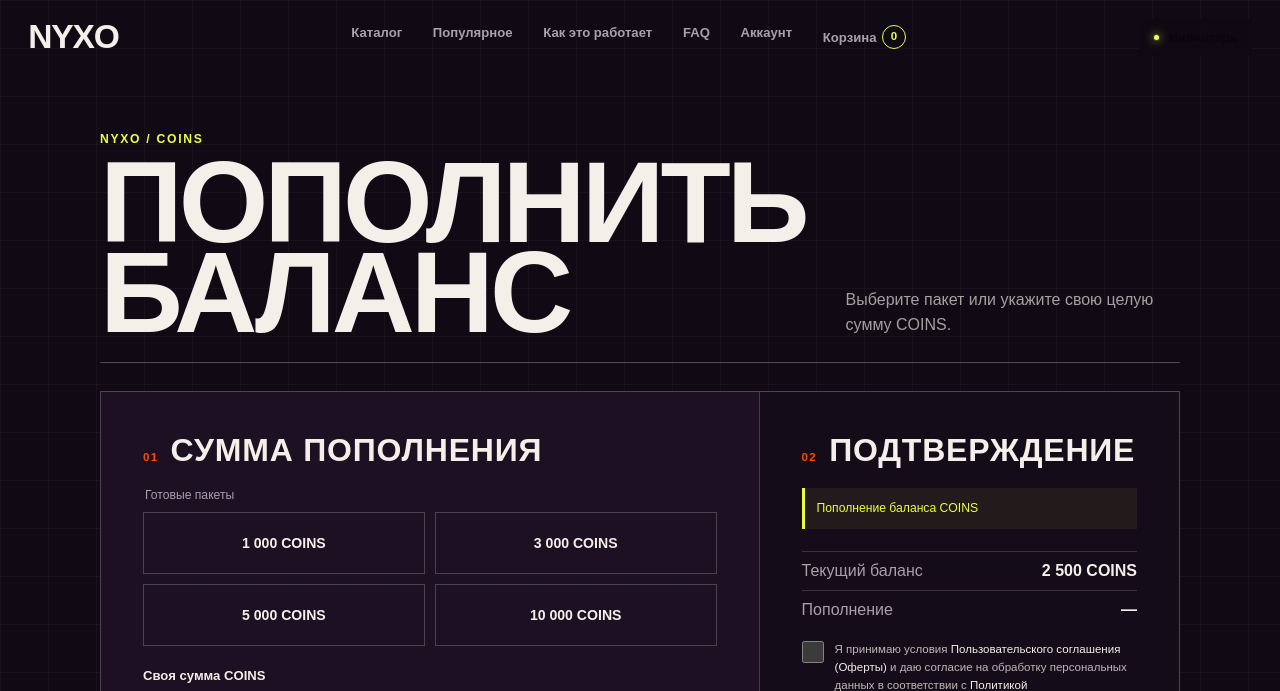
TopUpPage › rolls back on persistence failure, shows no false confirmation, and allows retry
Click the radio button labelled "5 000 COINS" at [284, 615], box top-left (143, 584), bottom-right (425, 646)
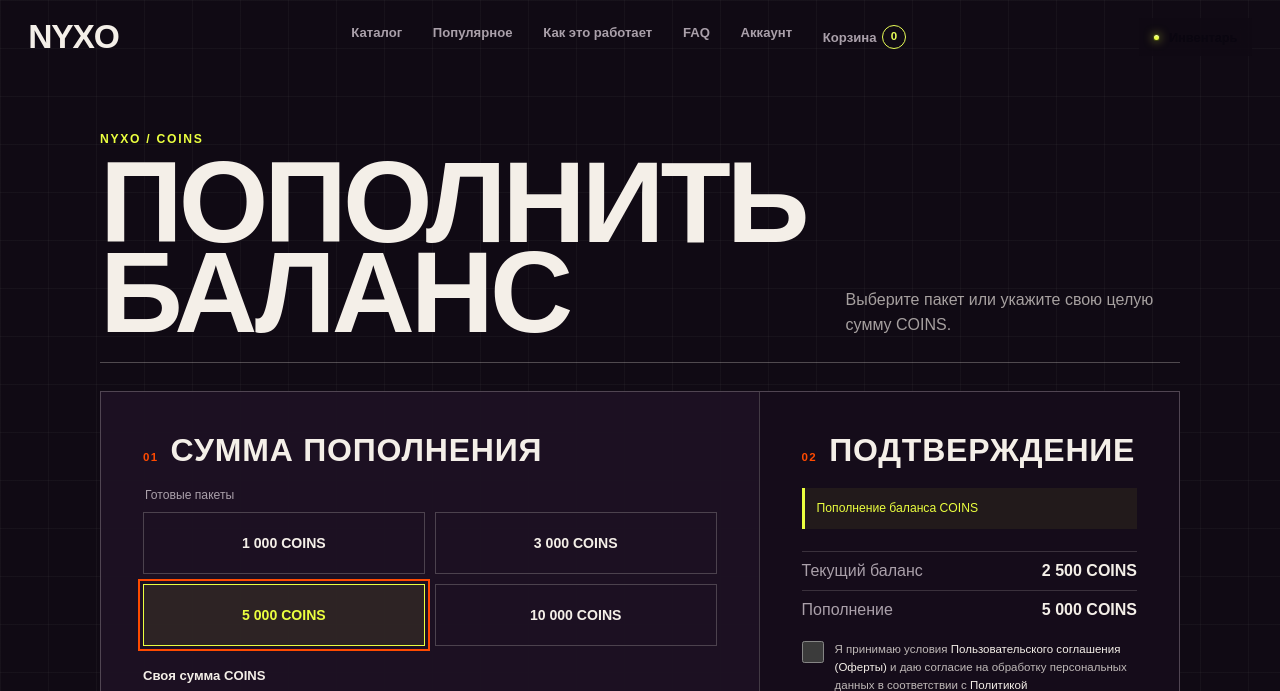
Click the checkbox named "Я принимаю условия Пользовательского соглашения (Оферты) и даю согласие на обработку персональных данных в соответствии " at [813, 652], box top-left (802, 641), bottom-right (824, 663)
(page scrolled)
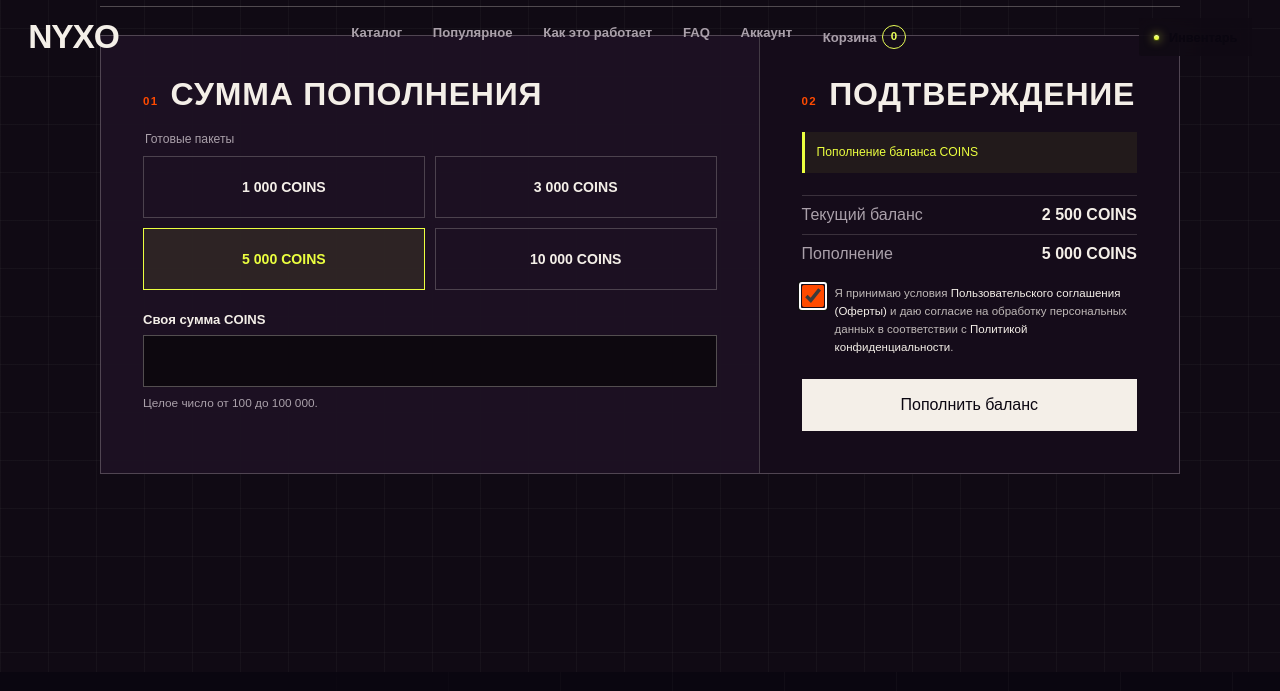
Click the button "Пополнить баланс" at [969, 405], box top-left (802, 379), bottom-right (1137, 431)
(page scrolled)
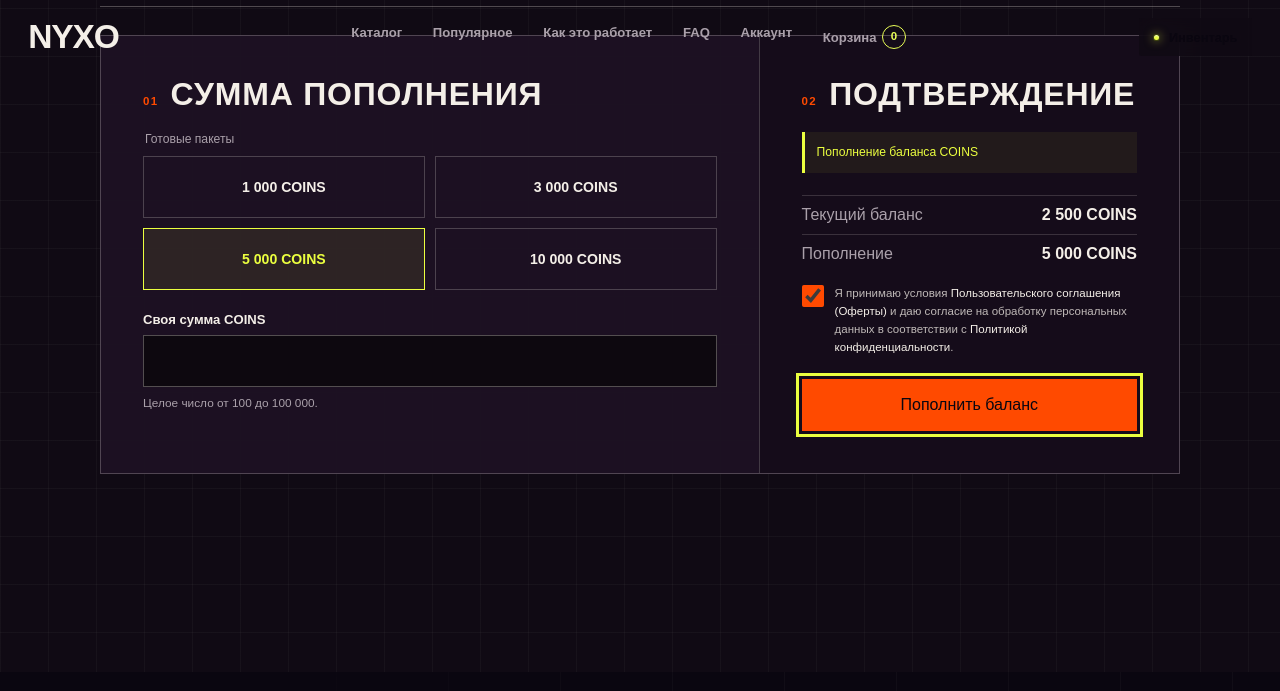
expect the heading "Баланс COINS обновлён" is not shown: met
Click the button "Пополнить баланс" at [969, 405], box top-left (802, 379), bottom-right (1137, 431)
(page scrolled)
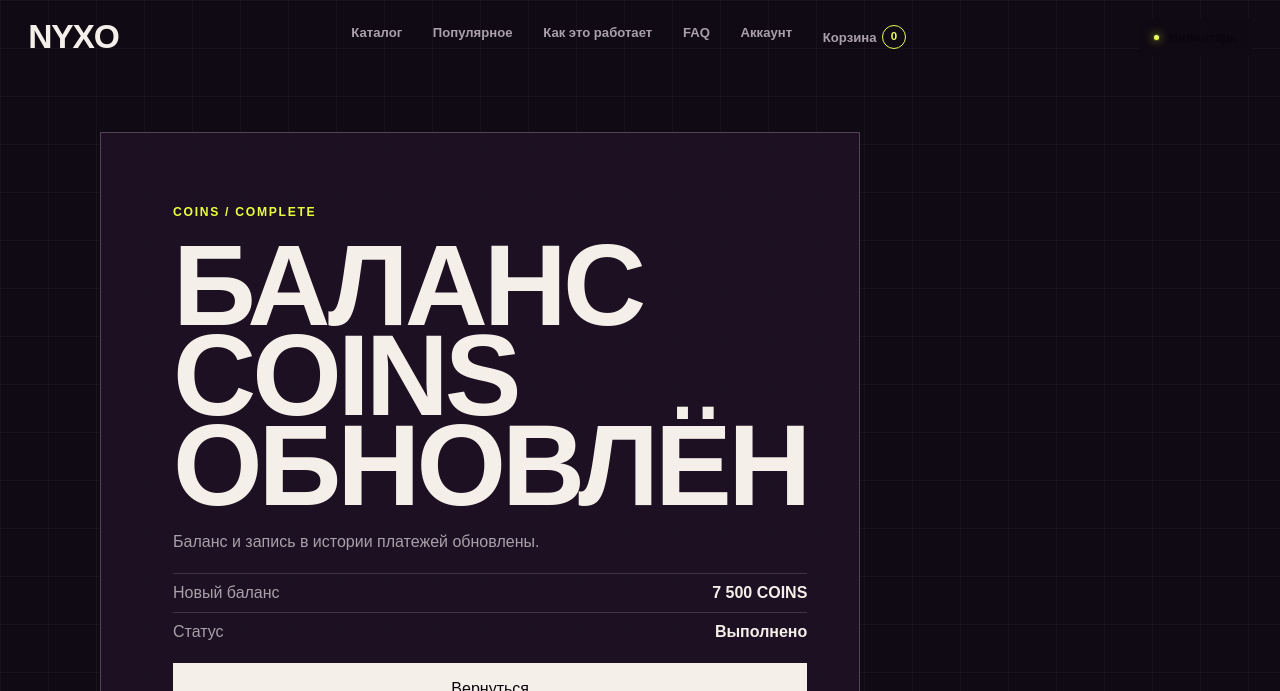
expect the heading "Баланс COINS обновлён" is shown: met, box top-left (173, 241), bottom-right (807, 510)
